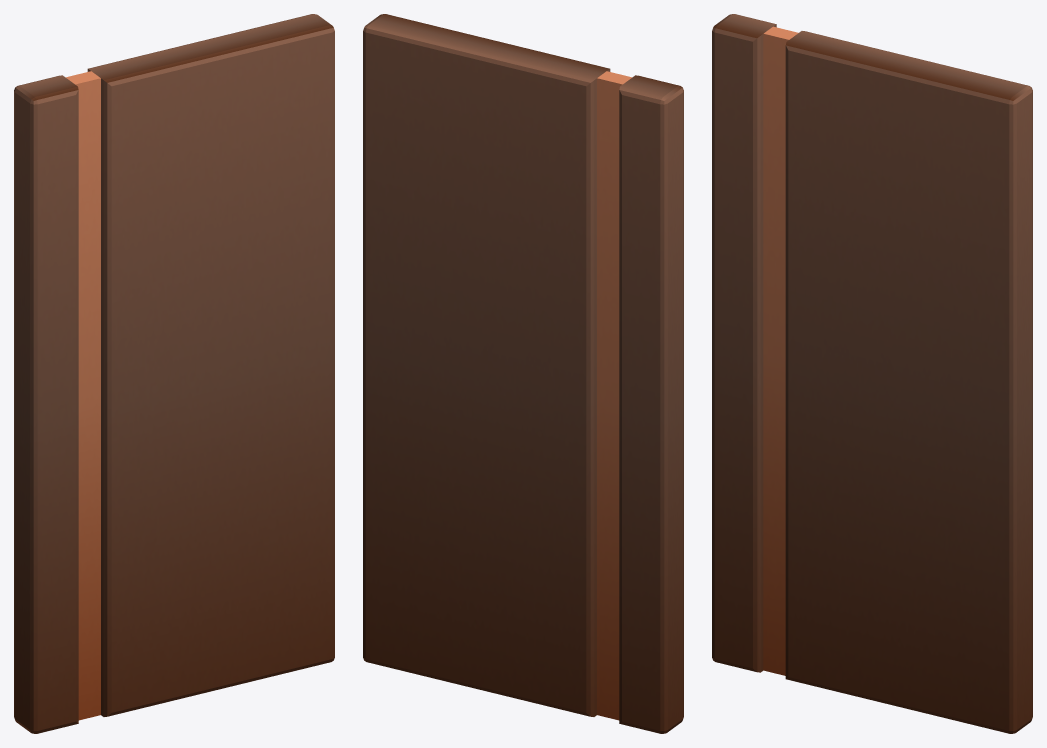
File: Mod_Door_01.fbx
3 views of the same model, side by side, from view 1: azimuth 30°, elevation 25°; view 2: azimuth 150°, elevation 25°; view 3: azimuth 330°, elevation 25° (orthographic).
Visible parts, largest first — view 1: Mod_Door_01; view 2: Mod_Door_01; view 3: Mod_Door_01.
Part boxes in pixels (<box>): Mod_Door_01: <box>14,14,334,733</box>; Mod_Door_01: <box>363,14,683,733</box>; Mod_Door_01: <box>712,14,1032,733</box>.
Bounding box in the file's own units: 100 × 200 × 12.
